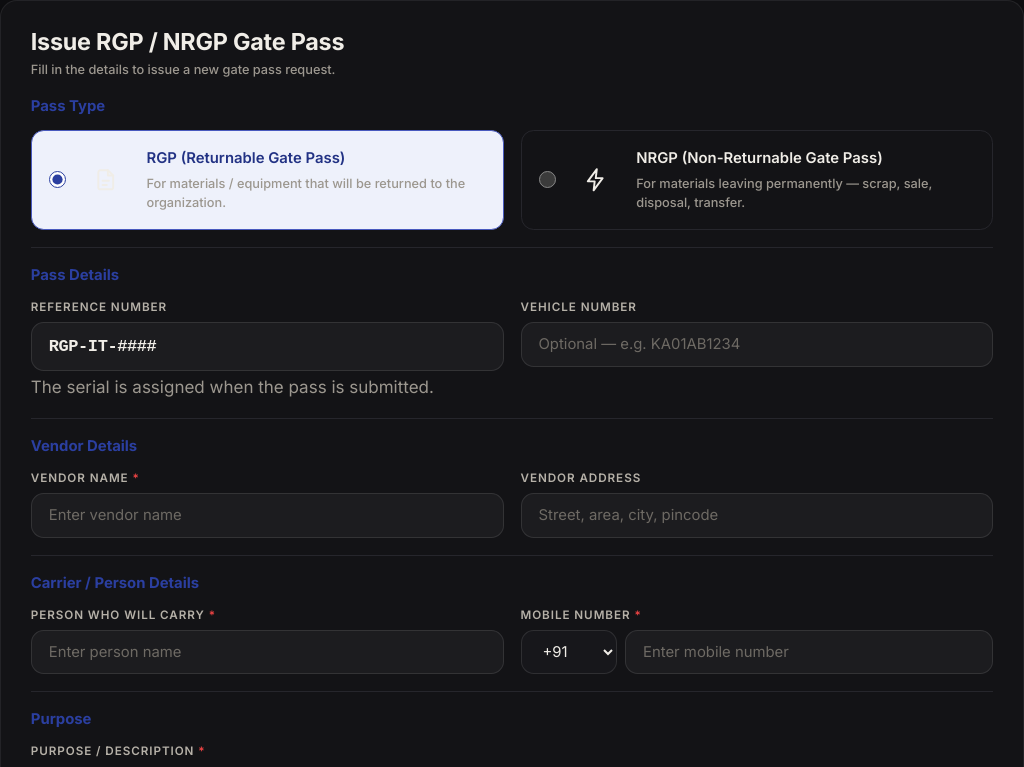
Scenario: RaisePass — the reference number, and the department that is not asked for › shows the pass reference read-only, and re-prefixes it when the type changes
The width and height of the screenshot is (1024, 767).
Expected: the field labelled "Reference Number" holds "RGP-IT-####", [31, 322, 504, 371]
Click the radio button labelled "NRGP".
click(547, 180)  # box [538, 172, 556, 188]
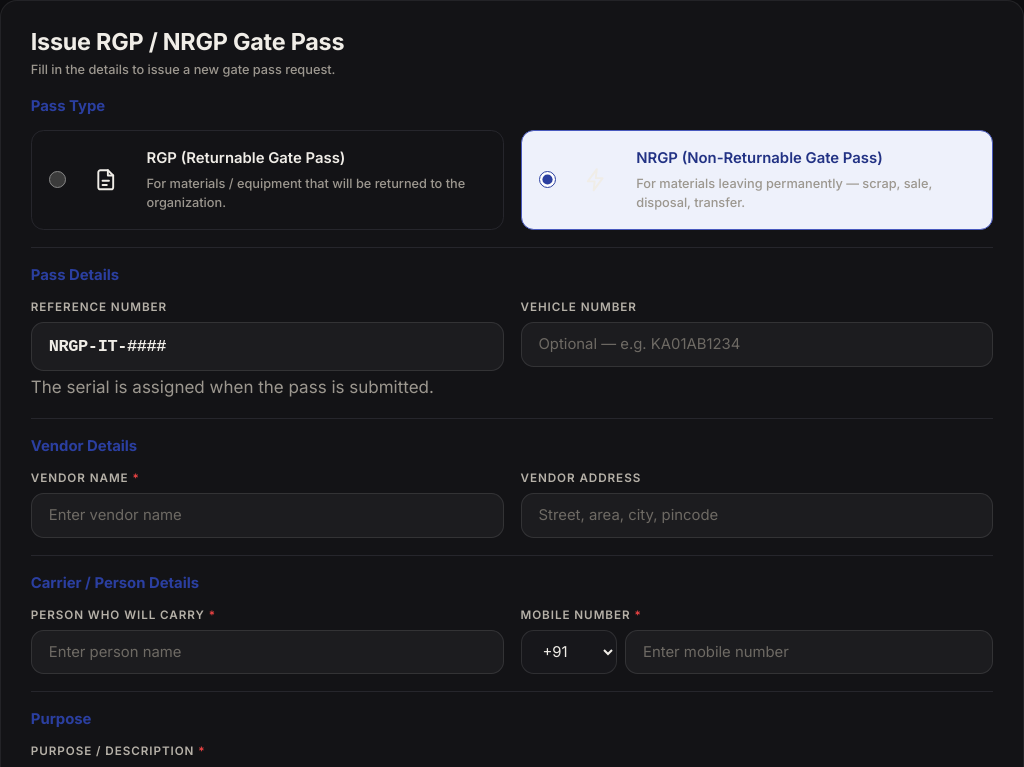
Expected: the field labelled "Reference Number" holds "NRGP-IT-####", [31, 322, 504, 371]
